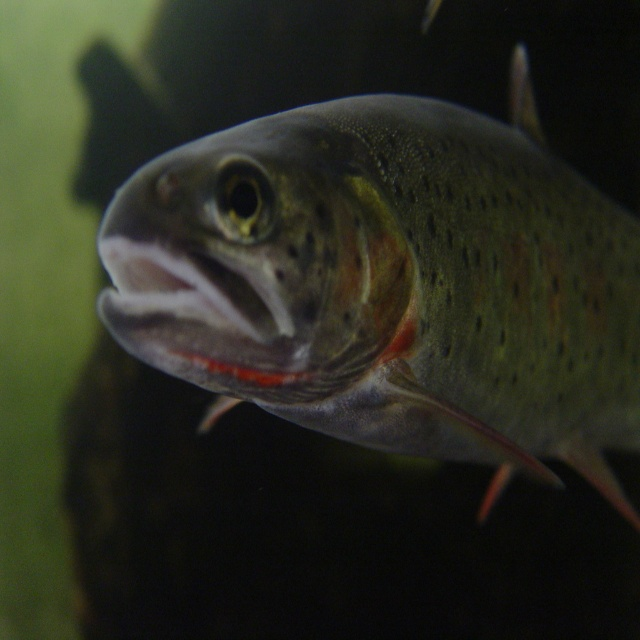Fish: (84, 67, 608, 544)
